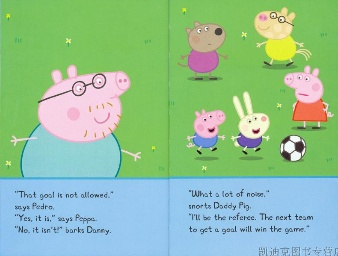Peppa: (283, 66, 334, 131)
